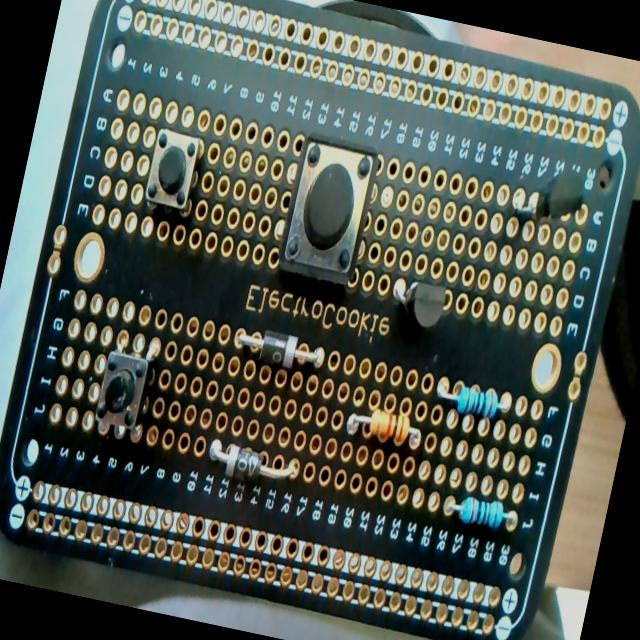diode: (204, 434, 301, 492), (230, 324, 324, 374)
resistor: (344, 402, 424, 450), (434, 376, 512, 423), (442, 490, 518, 536)
switch: (278, 136, 379, 284), (91, 346, 152, 436), (141, 128, 203, 215)
transistor: (506, 157, 594, 245), (384, 272, 452, 332)
